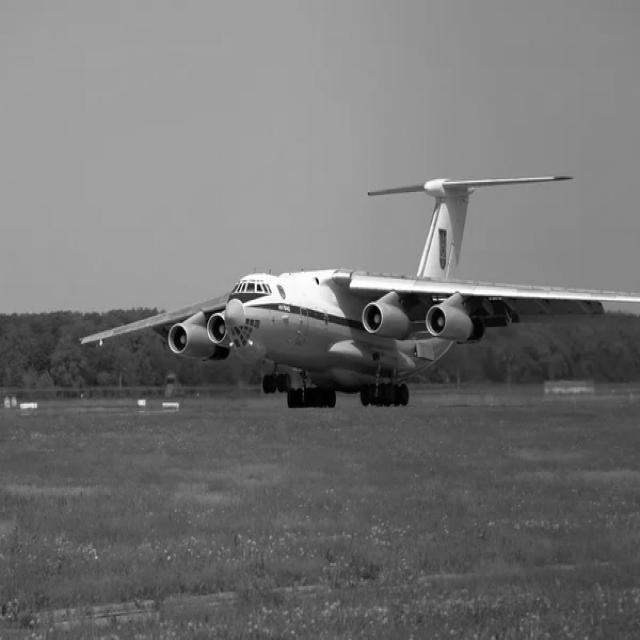Aircraft: (72, 163, 616, 409)
